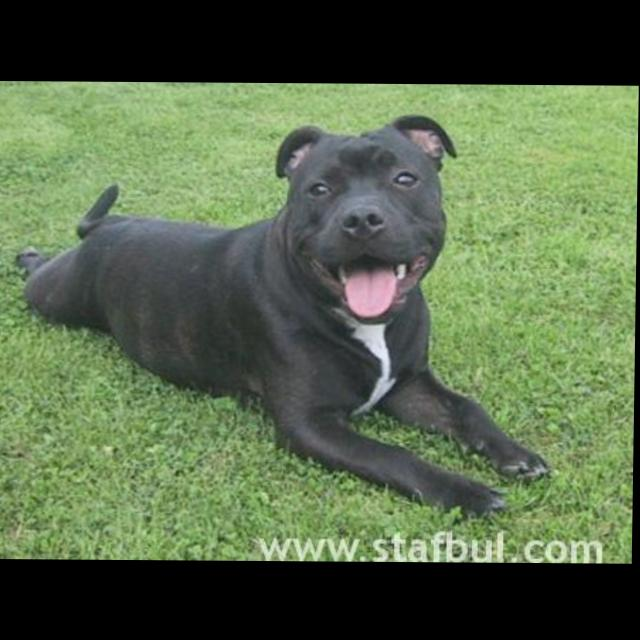staffford: (13, 111, 556, 521)
